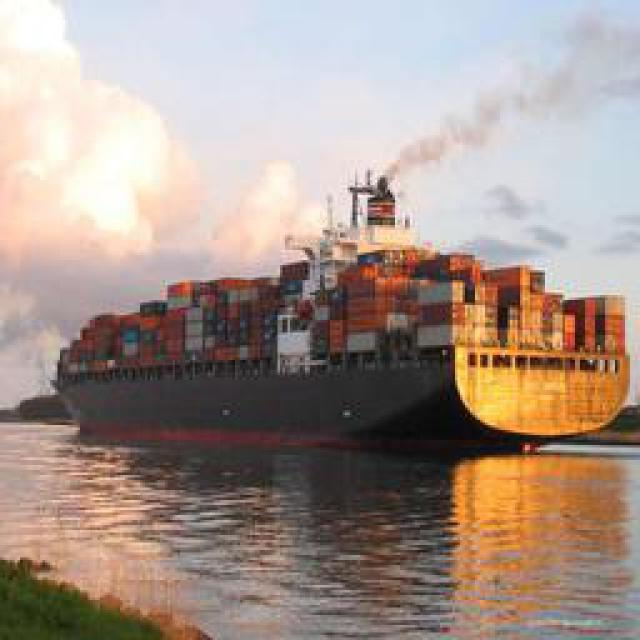Ship: (64, 249, 619, 444)
